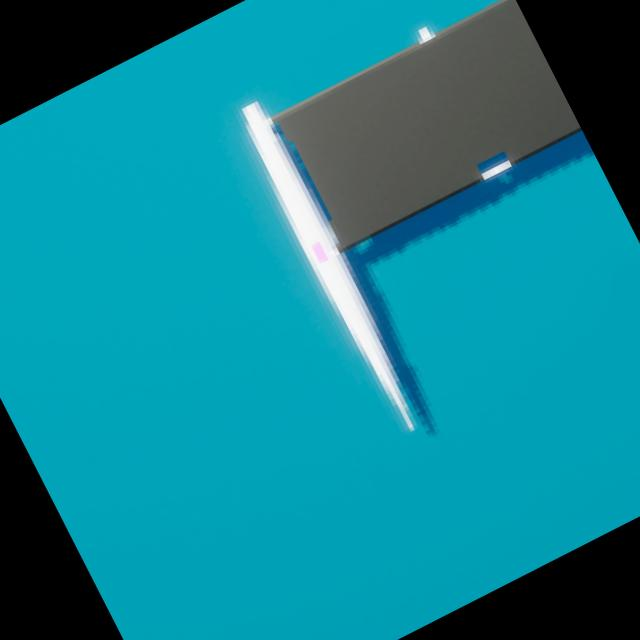boat: (222, 0, 640, 453)
drone: (277, 0, 581, 248)
